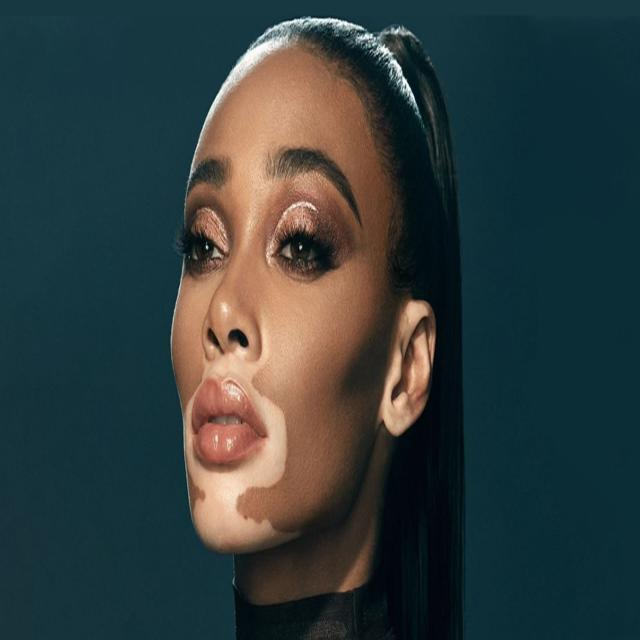vitiligo: (175, 332, 299, 543)
